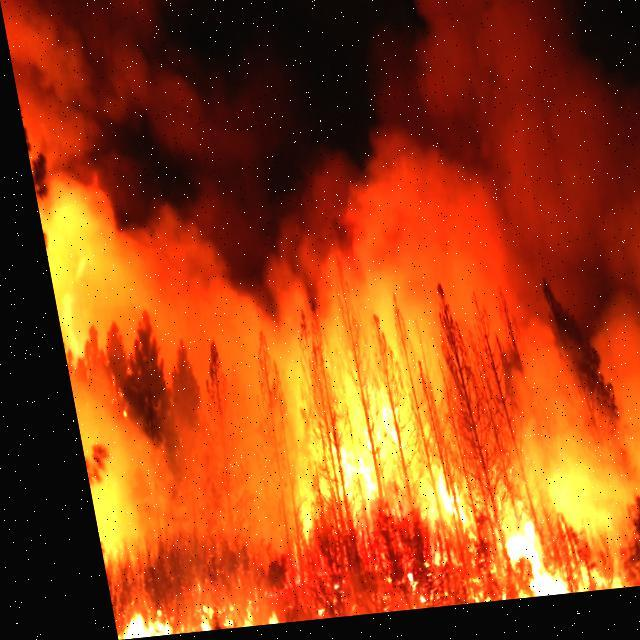Fire: (245, 364, 577, 624)
